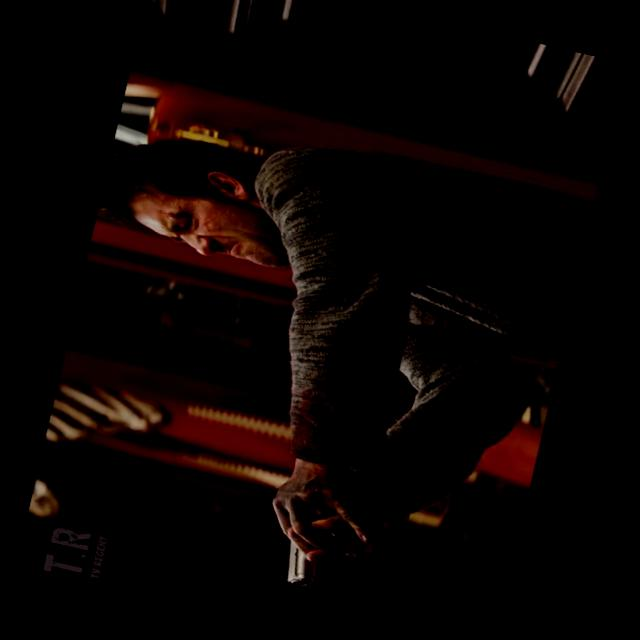handgun: (258, 483, 376, 604)
